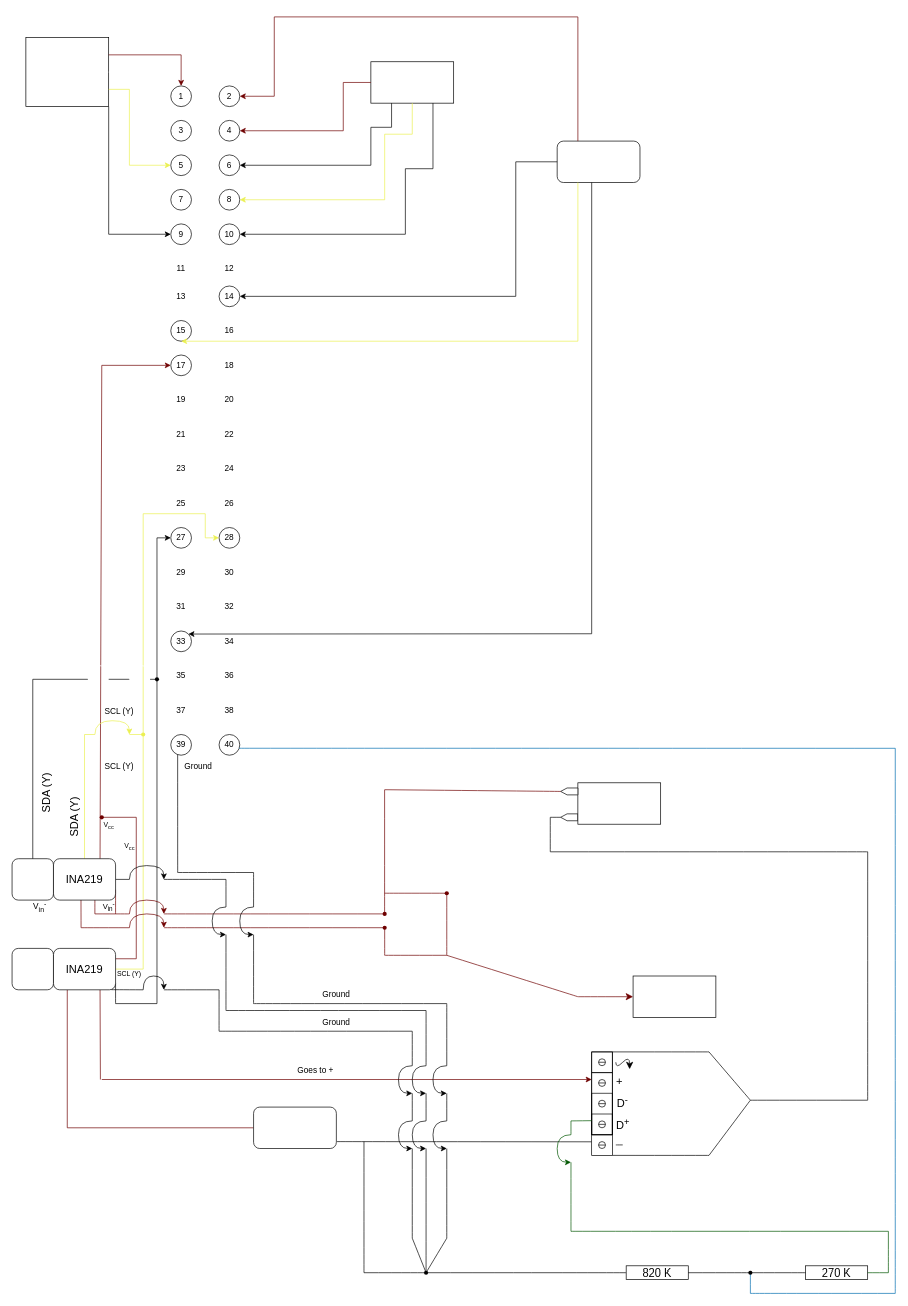
The diagram is 908 pixels wide and 1306 high, and some of its shapes have lost their labels. The shapes that lost their labels are listed below. From the top down, each one's box as (x1, y1, x2, y2) in pixels, then its label:
(25, 37, 109, 107): Light + BME + ETC
(370, 61, 454, 103): IPS7100
(556, 140, 640, 183): Rain Sensor
(577, 782, 661, 824): Battery
(11, 858, 53, 900): b/w Battery & Ordroid
(11, 948, 53, 990): b/w Solar or Battery
(632, 975, 716, 1017): ODroid Power
(253, 1106, 336, 1149): Solar
